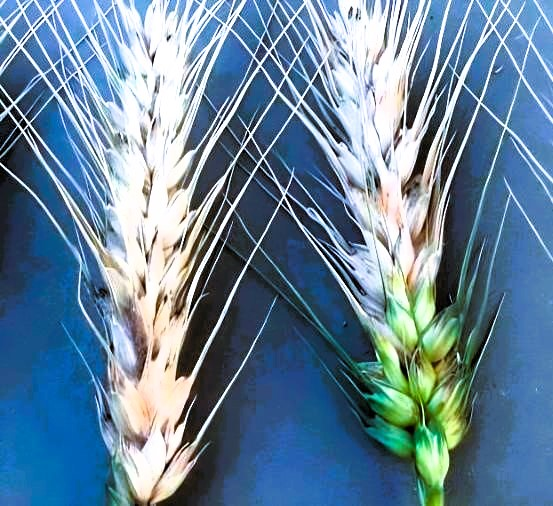Wheat scab: (304, 1, 486, 463)
